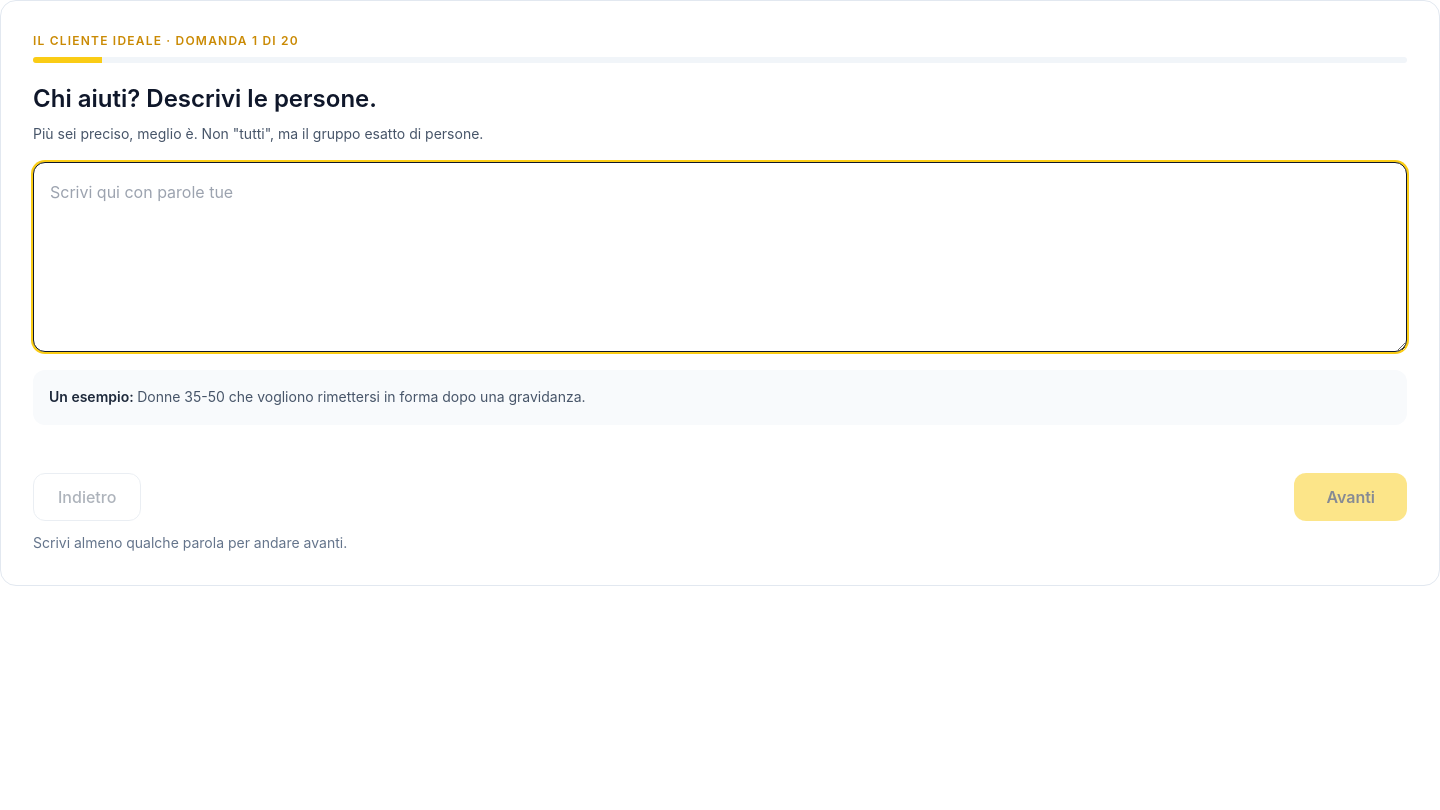
parte dalla prima domanda e Avanti si sblocca solo con una risposta vera
This screenshot has width=1440, height=810.
Expected: the heading "Chi aiuti? Descrivi le persone." is shown, x1=33 y1=84 x2=377 y2=113
Expected: the text "Il cliente ideale · Domanda 1 di 20" is shown, x1=33 y1=33 x2=299 y2=48
In the text box: (720, 257) x1=33 y1=162 x2=1407 y2=352, type "ok"
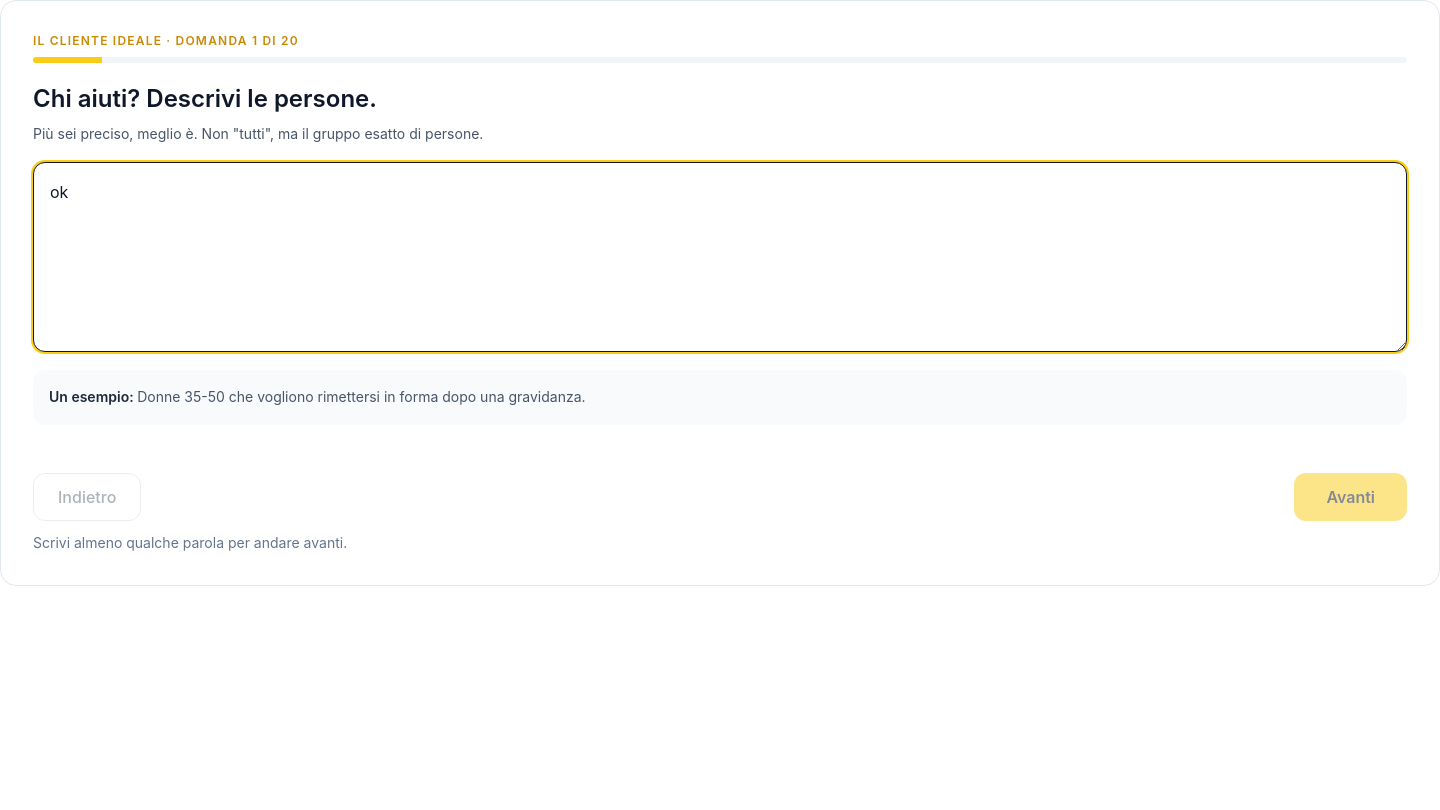
Expected: the button "Avanti" is disabled, x1=1294 y1=472 x2=1407 y2=520
Replace the text in the text box with "Donne dopo i quaranta anni": (720, 257) x1=33 y1=162 x2=1407 y2=352
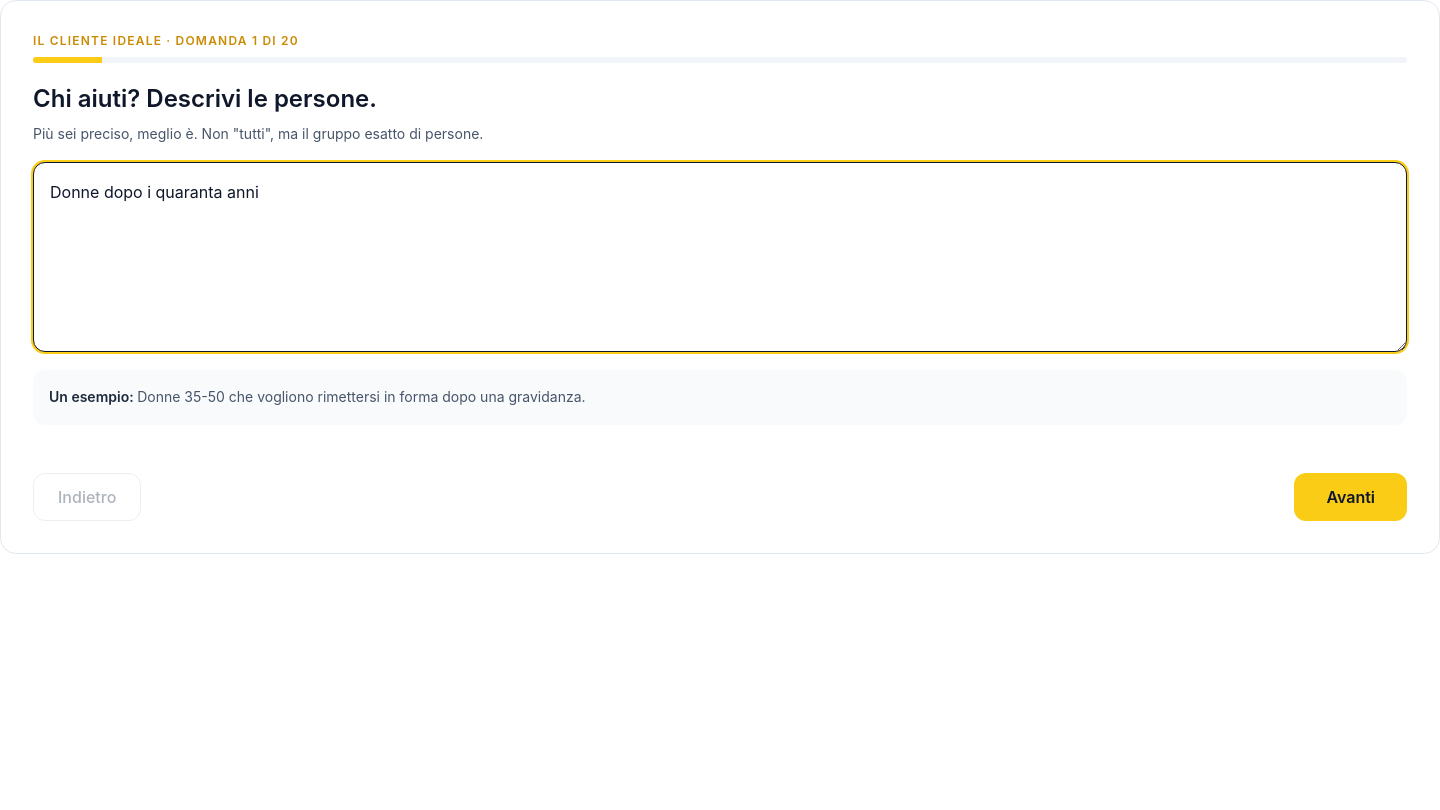
Result: the button "Avanti" is enabled at x1=1294 y1=472 x2=1407 y2=520
